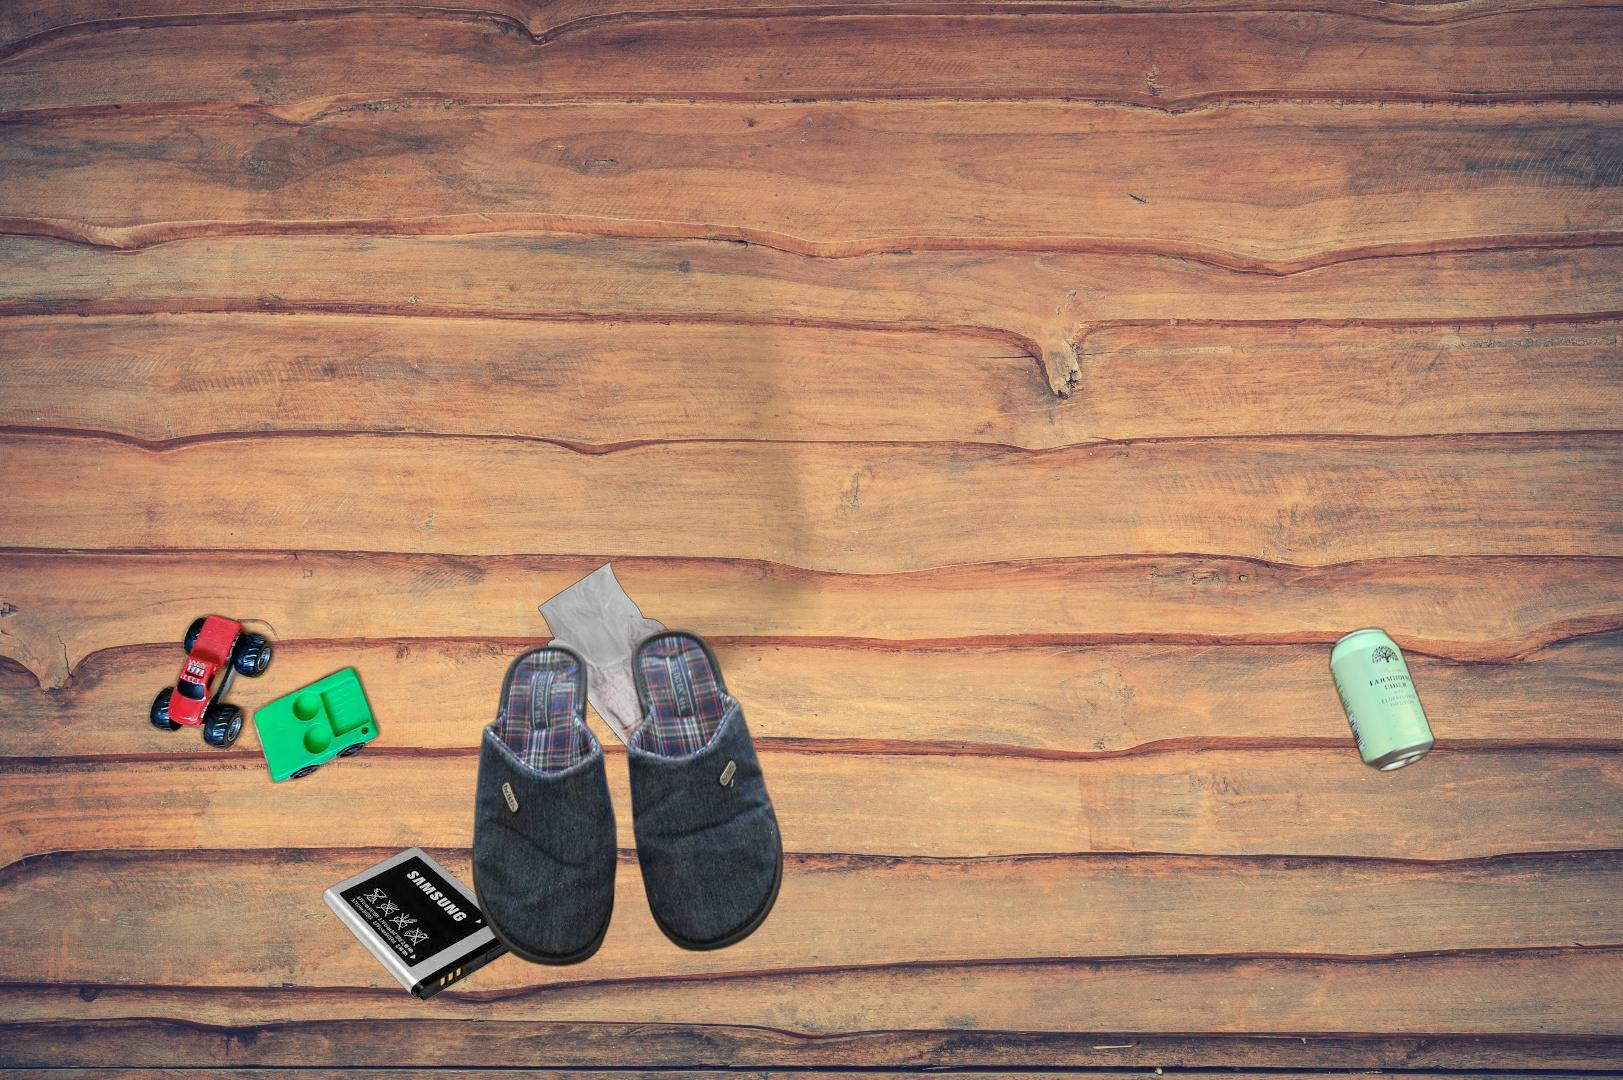battery: (321, 843, 525, 1004)
metal-cans: (1324, 622, 1440, 777)
plastic-bag: (537, 559, 717, 771), (1621, 818, 1623, 1005)
shoes: (469, 626, 787, 970)
trashbox-cardboard: (143, 198, 863, 796)
